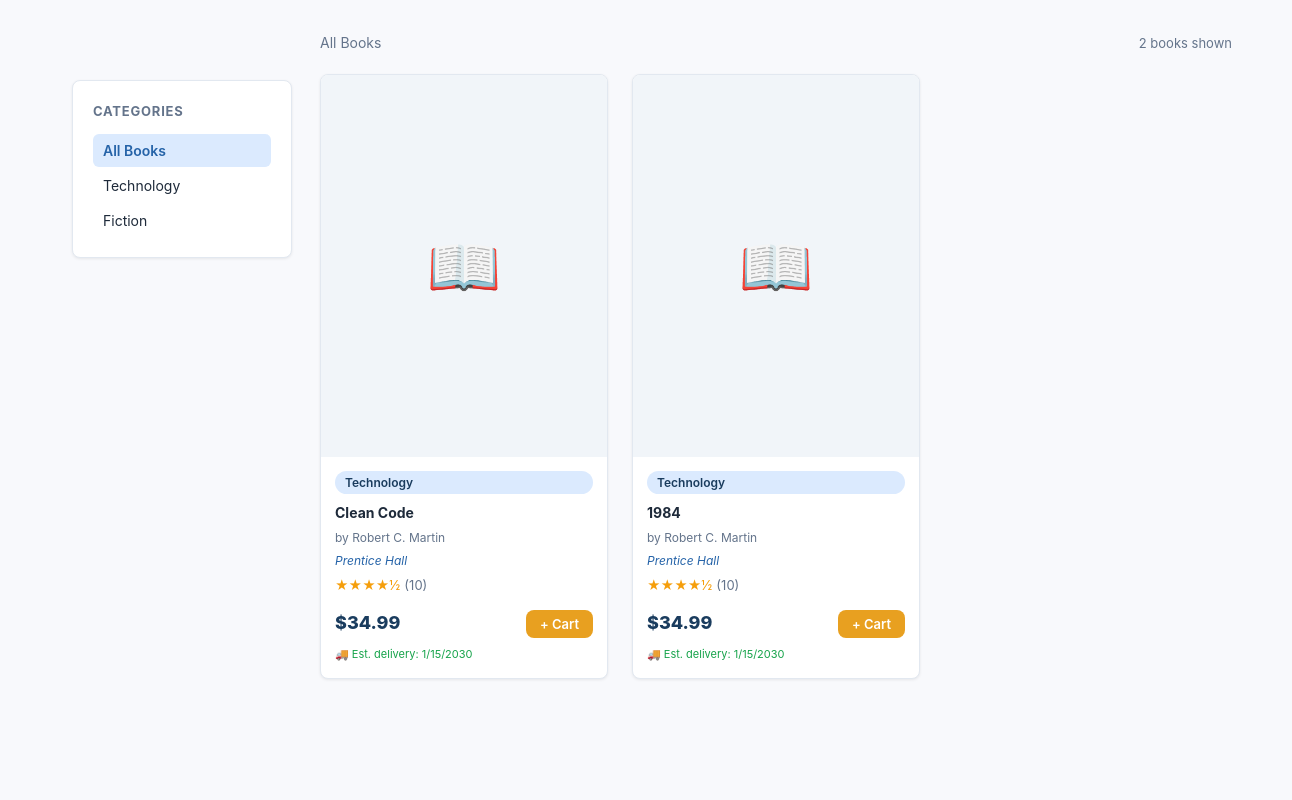
CataloguePage › clicking a category updates the URL and reloads products
This screenshot has width=1292, height=800.
Click the button "Technology".
click(182, 185)  # box [93, 169, 271, 202]
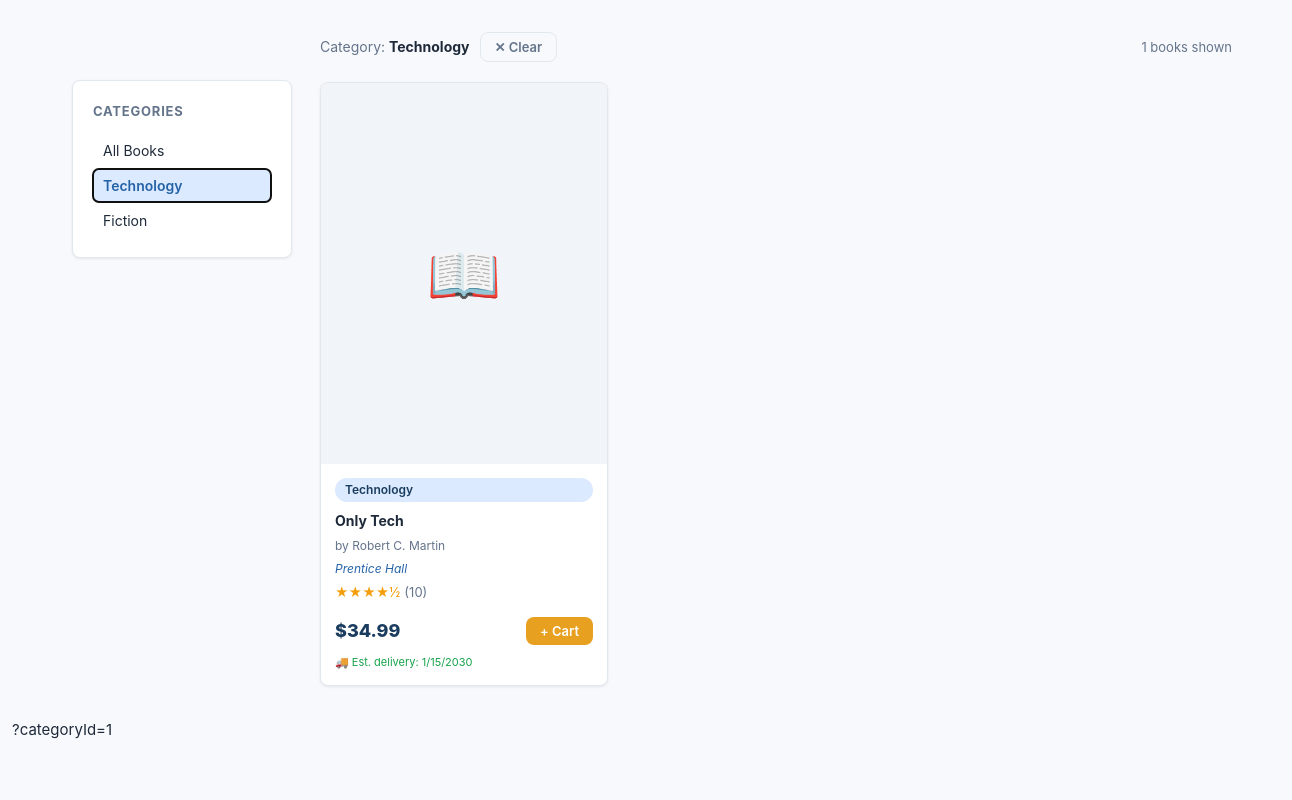
Check: the heading "Only Tech" is shown, box [335, 512, 404, 528]
Check: the text with test id "loc" reads "?categoryId=1", box [12, 720, 112, 740]
